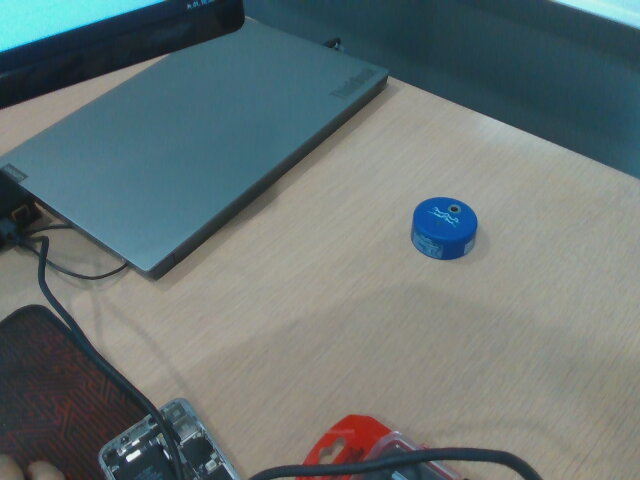alfa: (409, 194, 485, 262)
